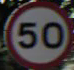Speed limit: (4, 2, 69, 62)
